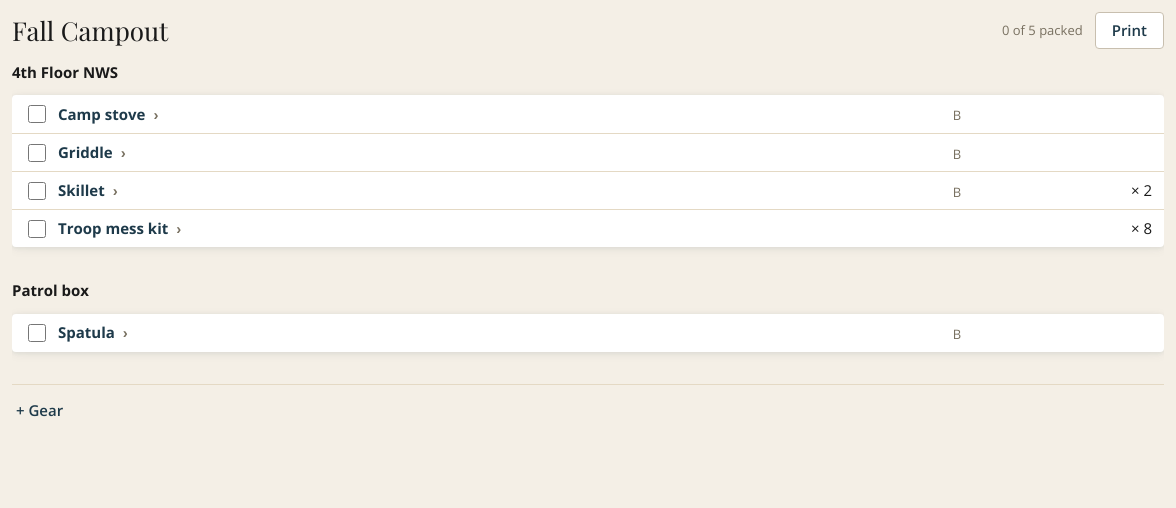
Scenario: Gear tab descriptions › OpenRow_ShowsTheItemsDescription_WhenItHasOne
Expected: the text "Flat iron, 4th floor shelf" is not shown
Click the button "Griddle ›".
click(92, 153)  # box top-left (58, 141), bottom-right (126, 164)
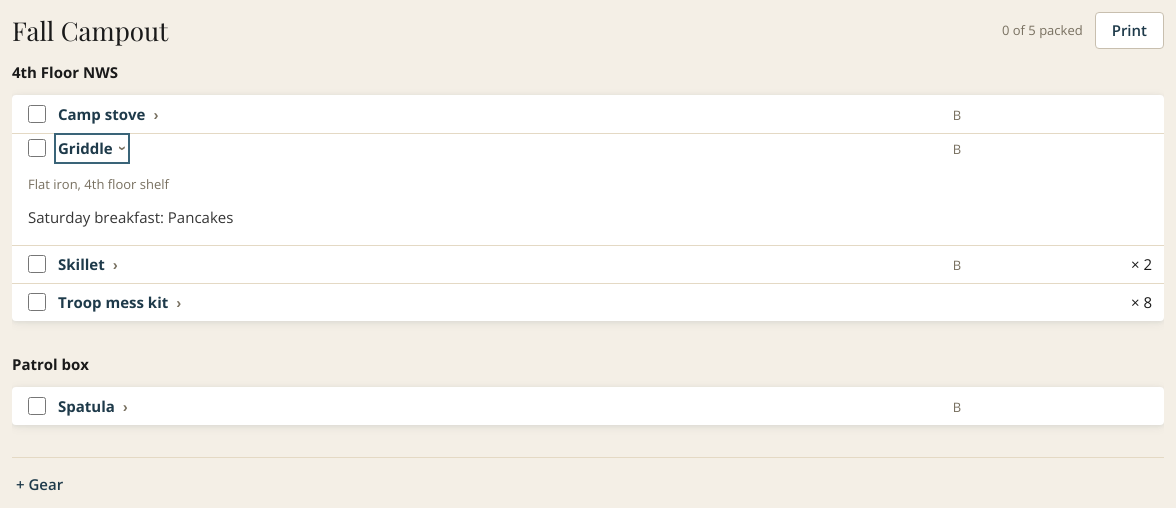
Expected: the text "Flat iron, 4th floor shelf" is shown, top-left (28, 174), bottom-right (169, 192)
